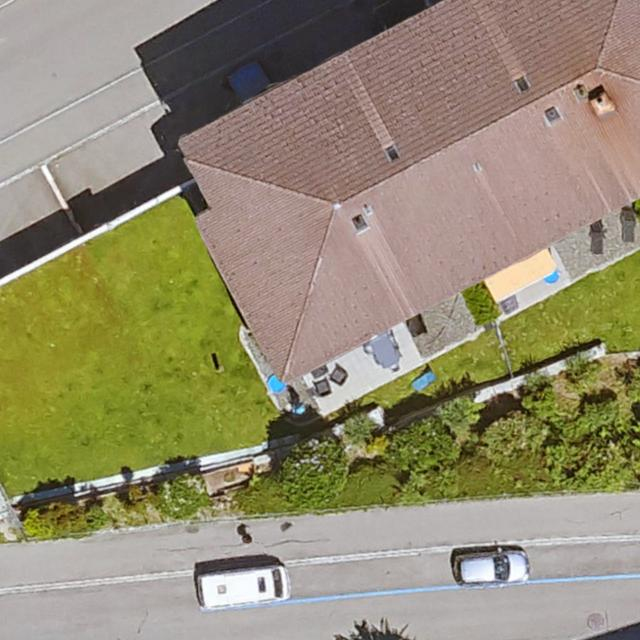tree: (278, 434, 348, 507), (486, 408, 550, 467)
